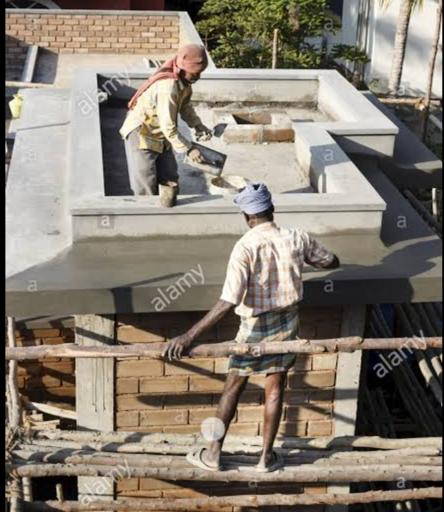unsafe person: (209, 179, 302, 472), (118, 41, 227, 188)
